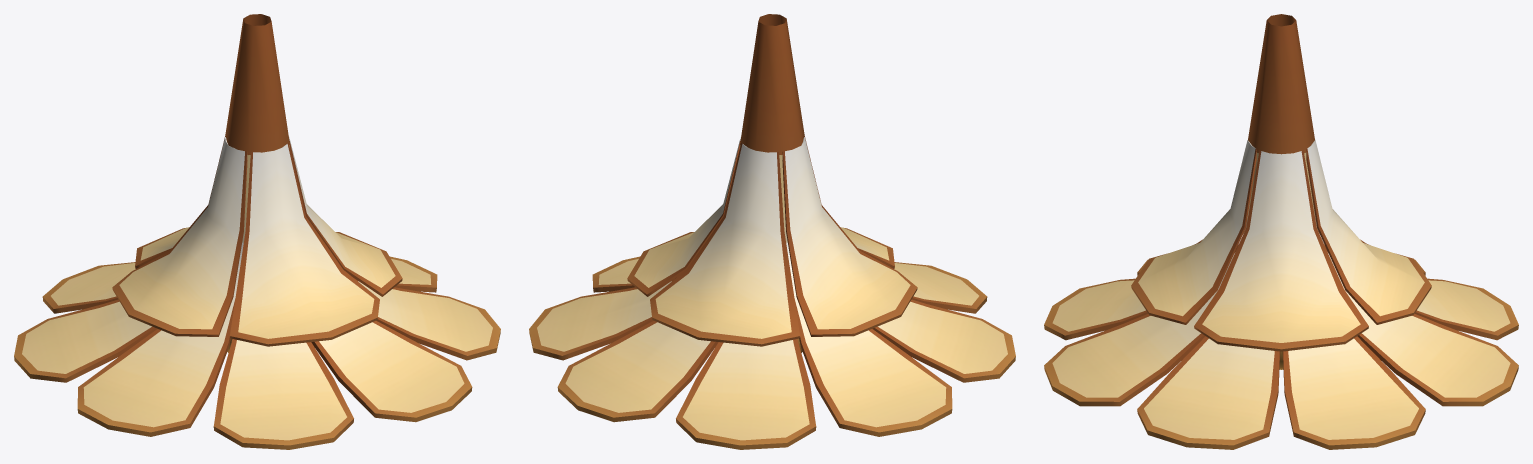
Rendered from HangingLight_02.fbx.
3 renders of one model, left to right at view 1: azimuth 30°, elevation 25°; view 2: azimuth 150°, elevation 25°; view 3: azimuth 270°, elevation 25°, orthographic.
Parts seen in each view (by area): view 1: FlowerDesign_001.006, FlowerDesign_001.007, Cylinder.009; view 2: FlowerDesign_001.006, FlowerDesign_001.007, Cylinder.009; view 3: FlowerDesign_001.006, FlowerDesign_001.007, Cylinder.009.
Boxes of the visible parts, bbox=[...] form: FlowerDesign_001.006: bbox=[14, 242, 500, 449]; FlowerDesign_001.007: bbox=[112, 136, 402, 346]; Cylinder.009: bbox=[225, 14, 289, 242]; FlowerDesign_001.006: bbox=[529, 242, 1015, 449]; FlowerDesign_001.007: bbox=[627, 136, 917, 346]; Cylinder.009: bbox=[740, 14, 804, 242]; FlowerDesign_001.006: bbox=[1044, 244, 1518, 449]; FlowerDesign_001.007: bbox=[1131, 139, 1431, 351]; Cylinder.009: bbox=[1247, 14, 1315, 219].
Size of the model in its own units: 265 by 213 by 265.
